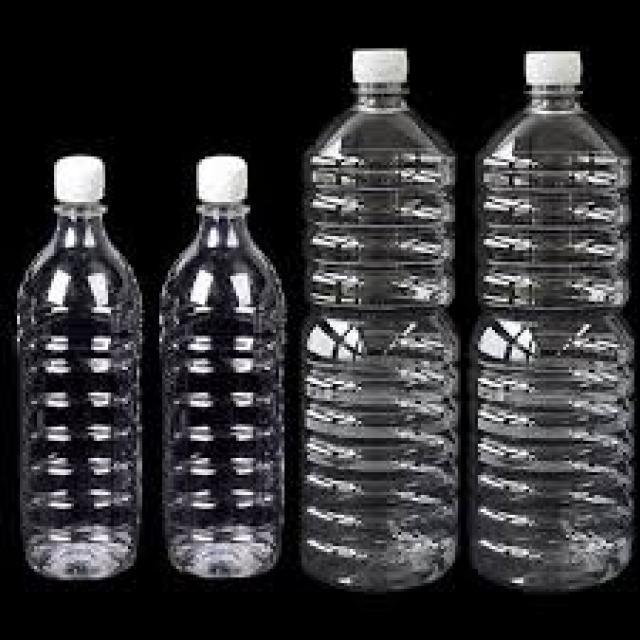bottle: (300, 22, 466, 594), (484, 21, 630, 612), (159, 130, 299, 606), (20, 132, 146, 580)
